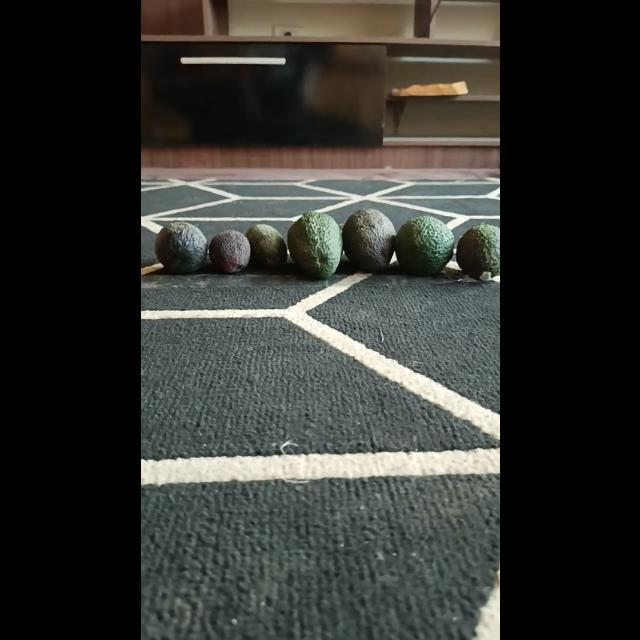Primera: (286, 212, 342, 280), (394, 216, 454, 276), (341, 208, 397, 272)
Segunda: (154, 220, 206, 274), (454, 223, 498, 280)
Tercera: (208, 228, 250, 274), (244, 225, 286, 269)
